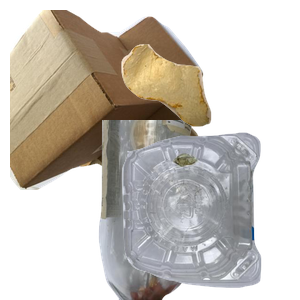cardboard: (10, 10, 206, 190)
glass: (96, 120, 283, 300)
plastic: (119, 130, 300, 300)
trash: (119, 42, 300, 161)
